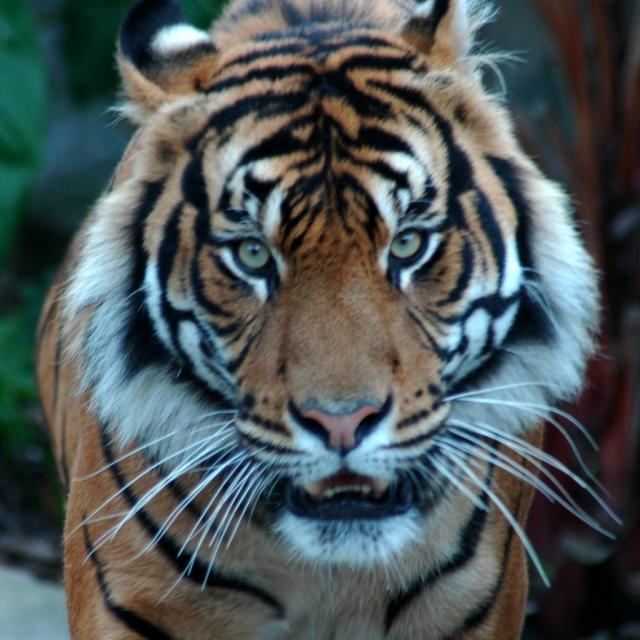Tiger: (34, 0, 624, 639)
